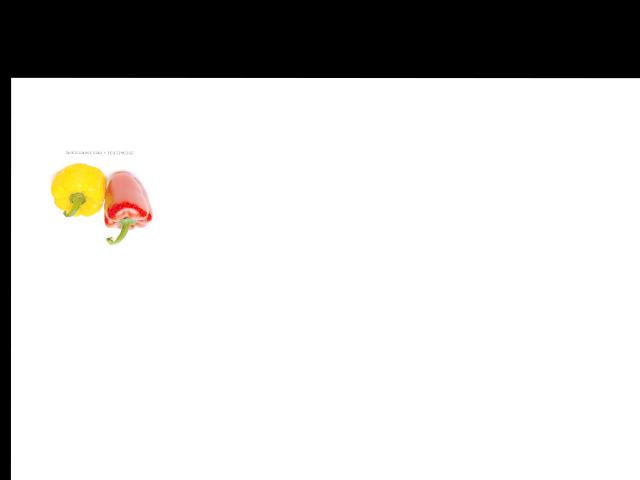bell_pepper: (48, 158, 108, 221)
